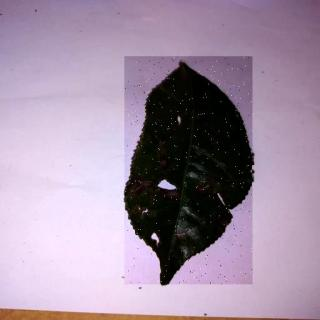Anthracnose: (126, 58, 255, 286)
